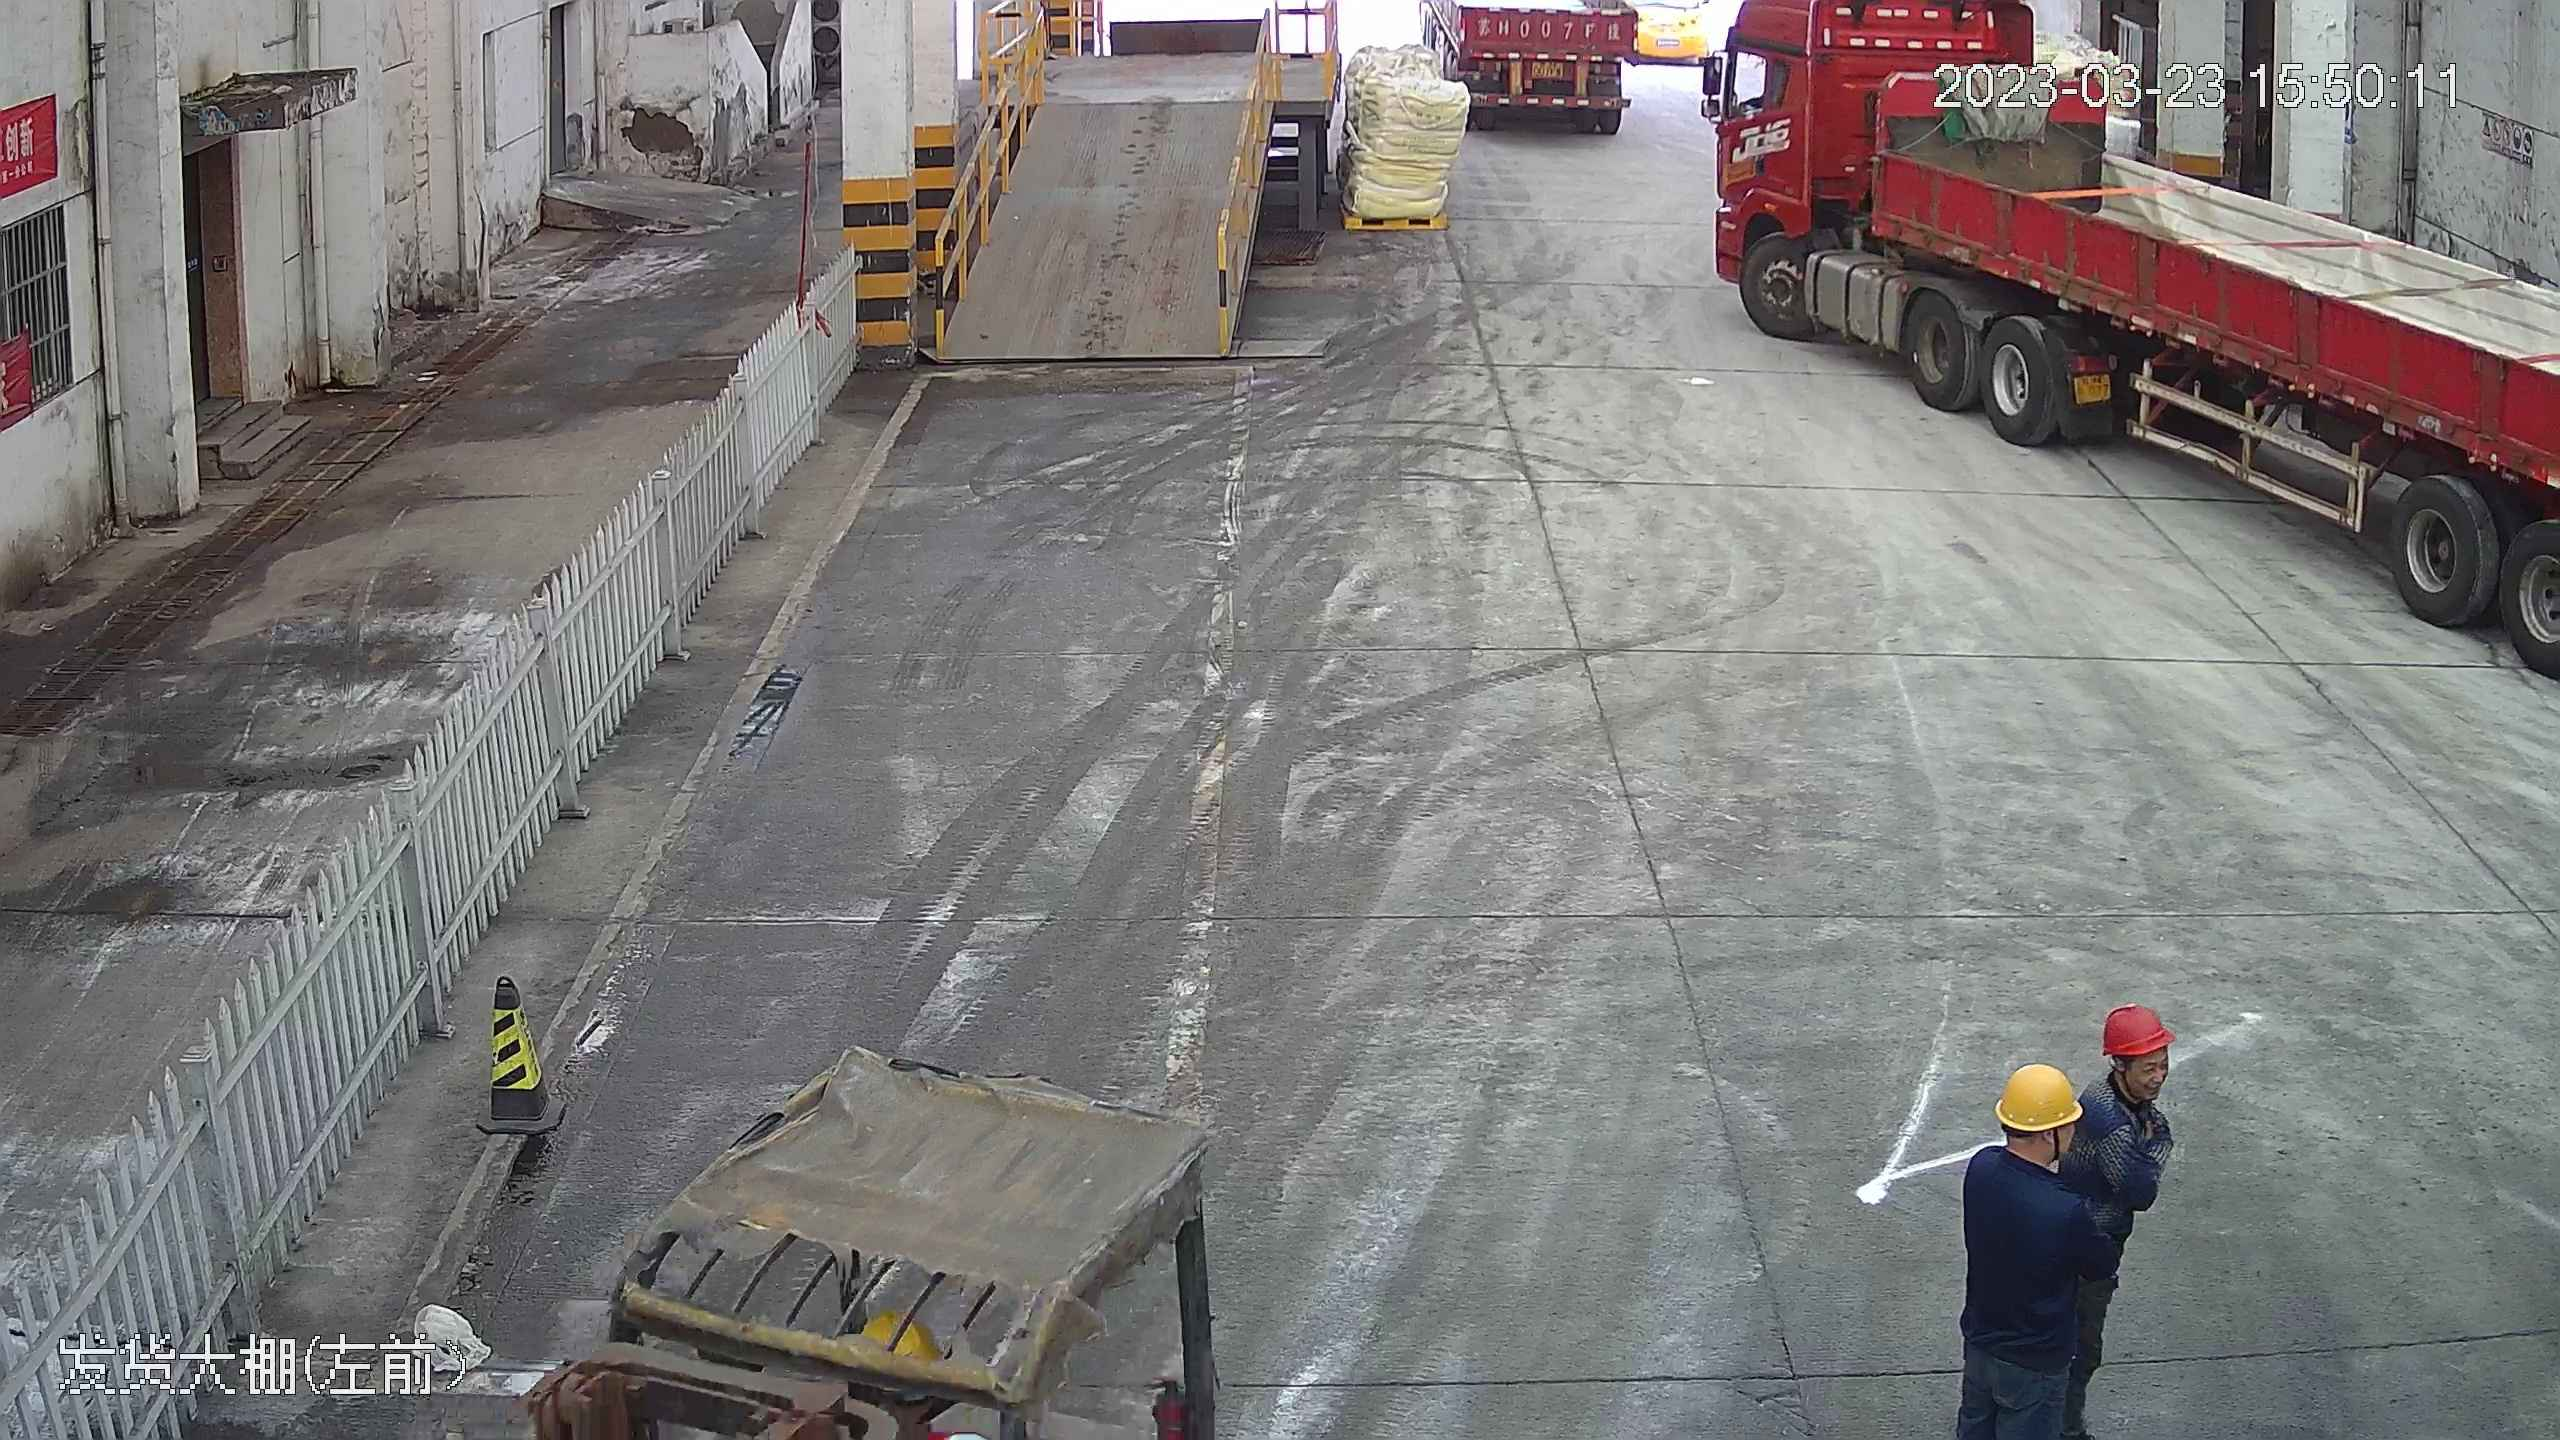head: (1961, 1058, 2105, 1250), (2082, 1001, 2179, 1164)
helmet: (1993, 1059, 2082, 1132), (2097, 1001, 2174, 1058)
people: (1954, 1063, 2123, 1433)
truck: (1699, 1, 2557, 729), (1428, 1, 1640, 146)
